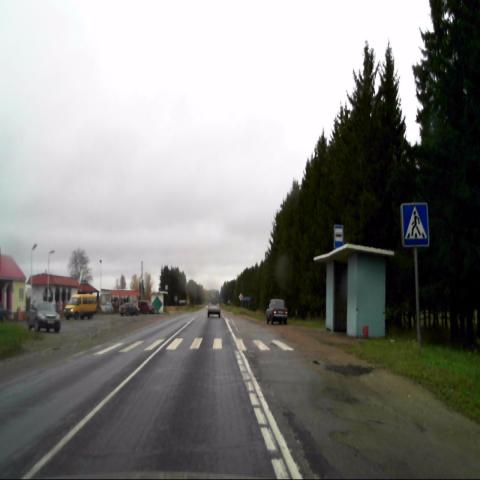5_16: (334, 222, 344, 248)
5_19_1: (401, 202, 429, 247)
